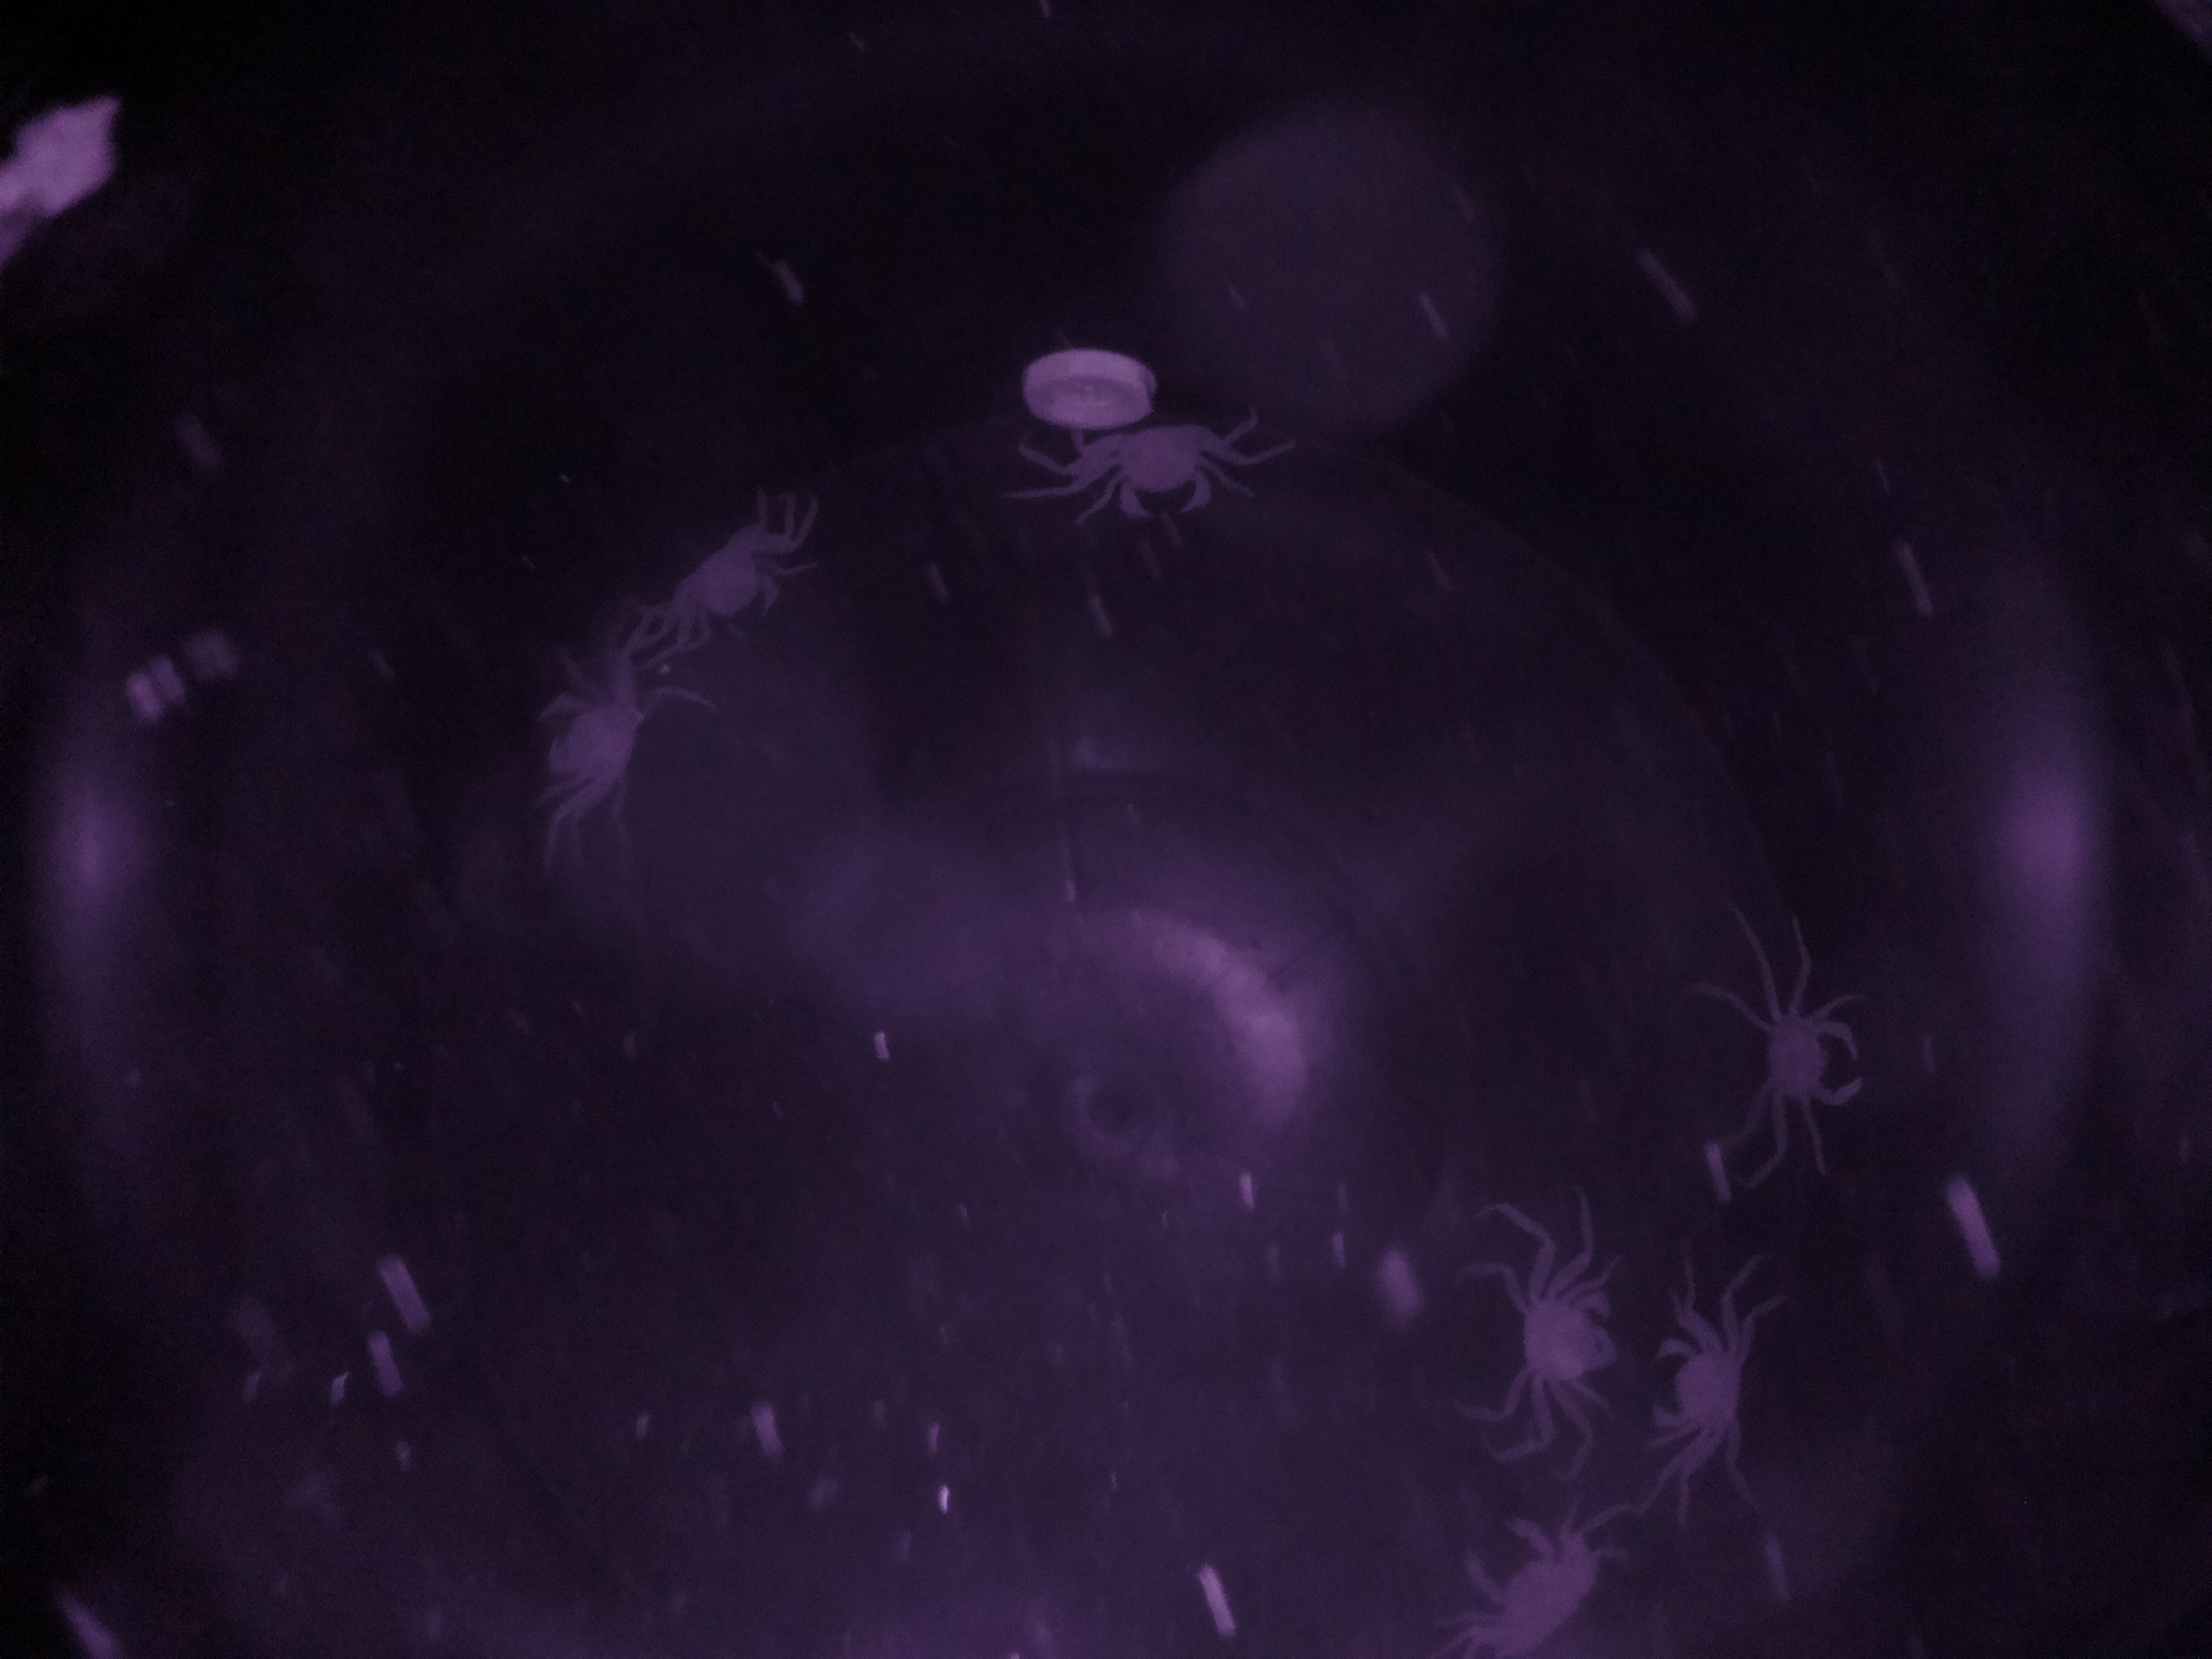Crab: (631, 498, 794, 659), (1724, 976, 1879, 1140), (1456, 1506, 1622, 1657), (1644, 1290, 1780, 1473), (526, 659, 660, 831), (1069, 397, 1244, 526), (1491, 1248, 1620, 1408)
